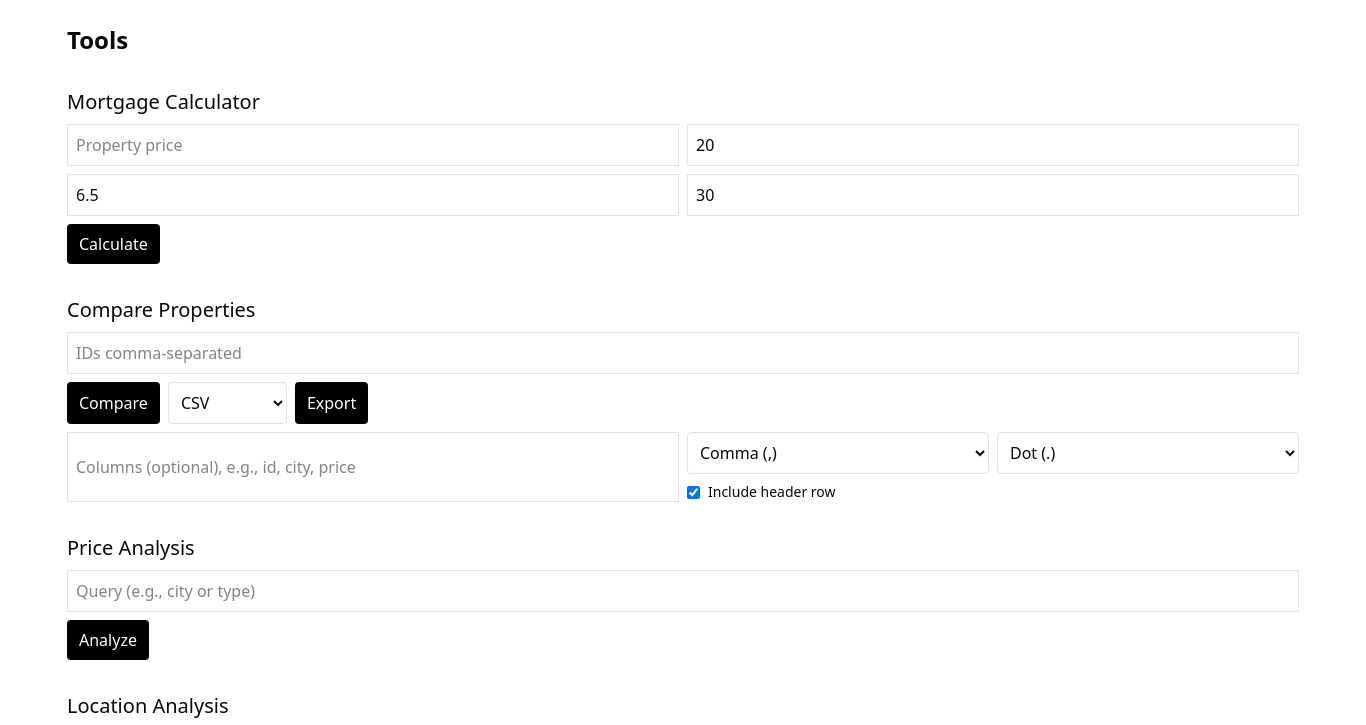
ToolsPage › MortgageSection › calculates mortgage and shows result
The width and height of the screenshot is (1366, 725).
In the field with placeholder "Property price": [373, 145] box [67,124,679,166], type "500000"
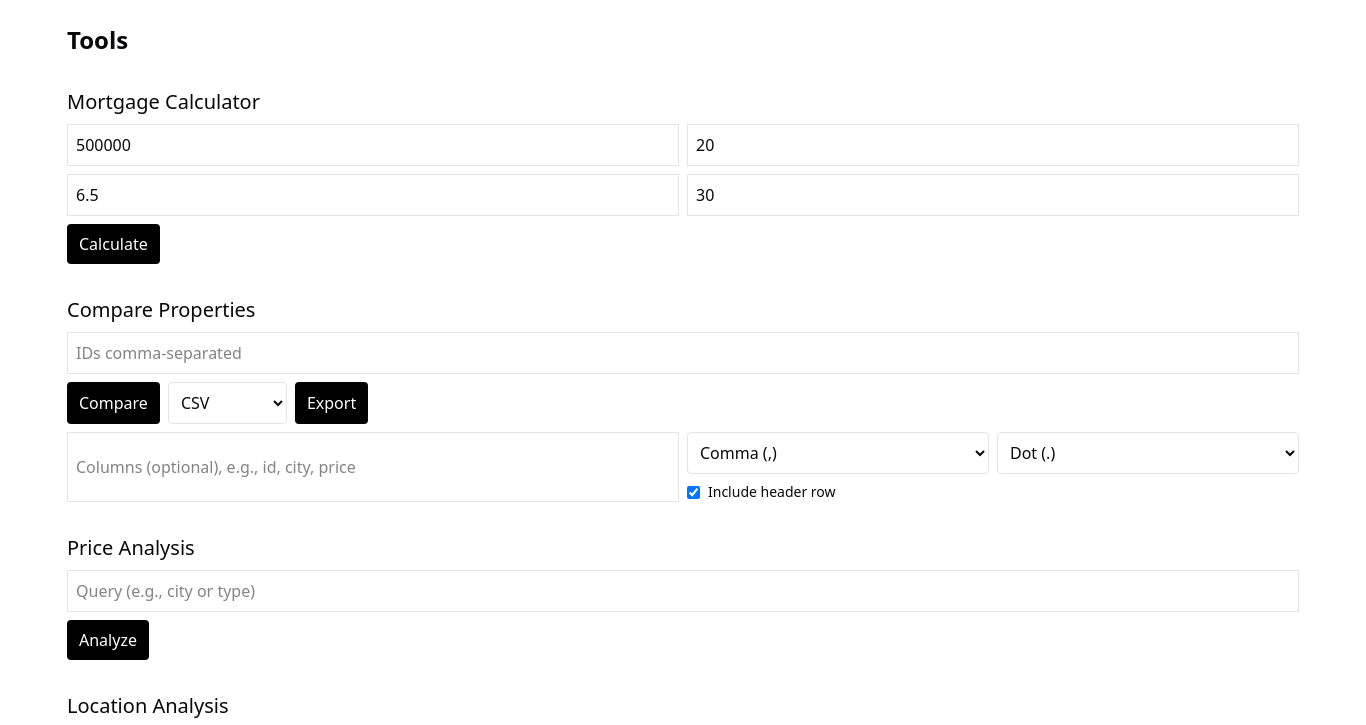
Click the button "Calculate": [113, 244] box [67,224,160,264]
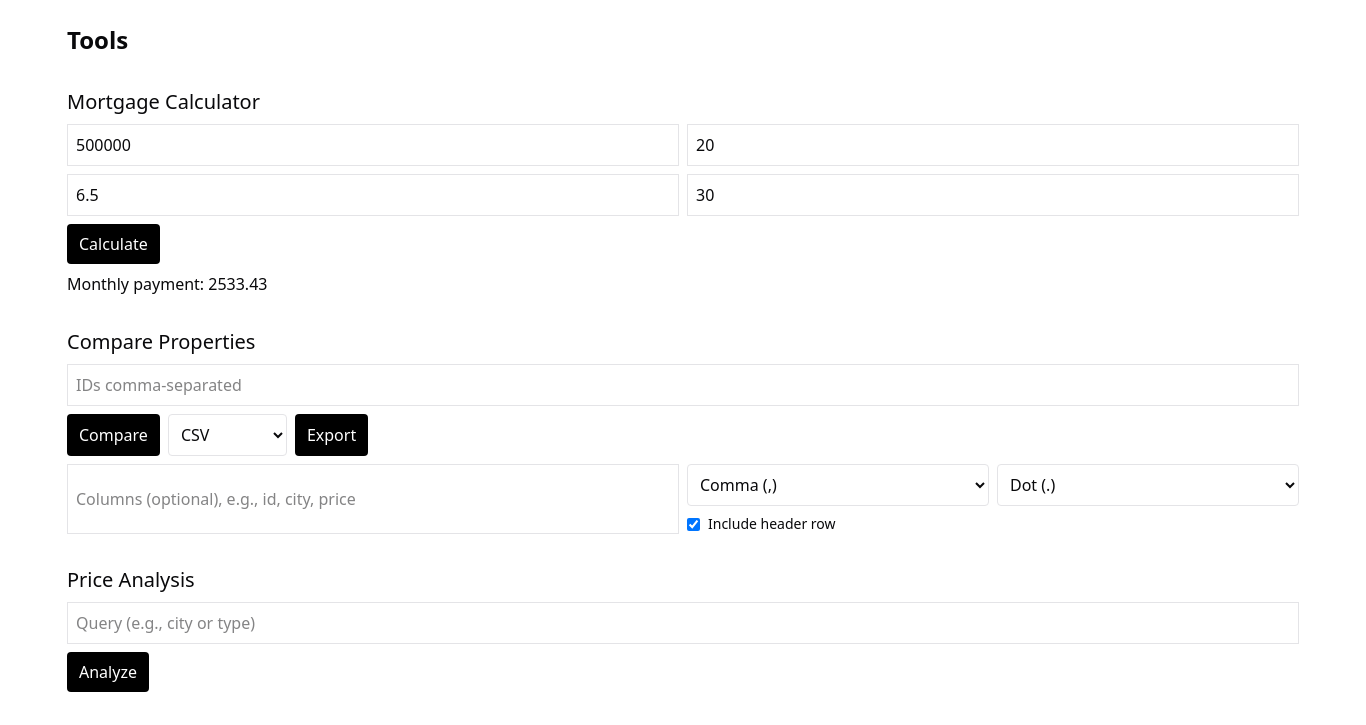
Now the text "Monthly payment: 2533.43" is shown, box [67,273,268,295]
